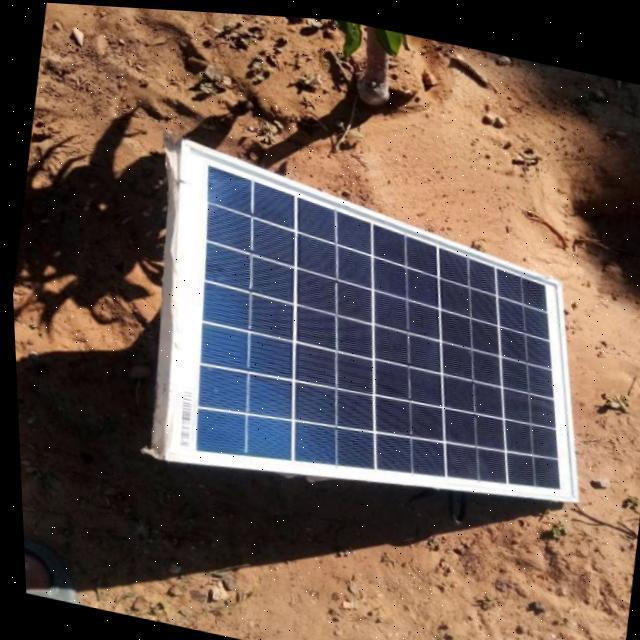Normal Solar Panel: (133, 137, 616, 543)
